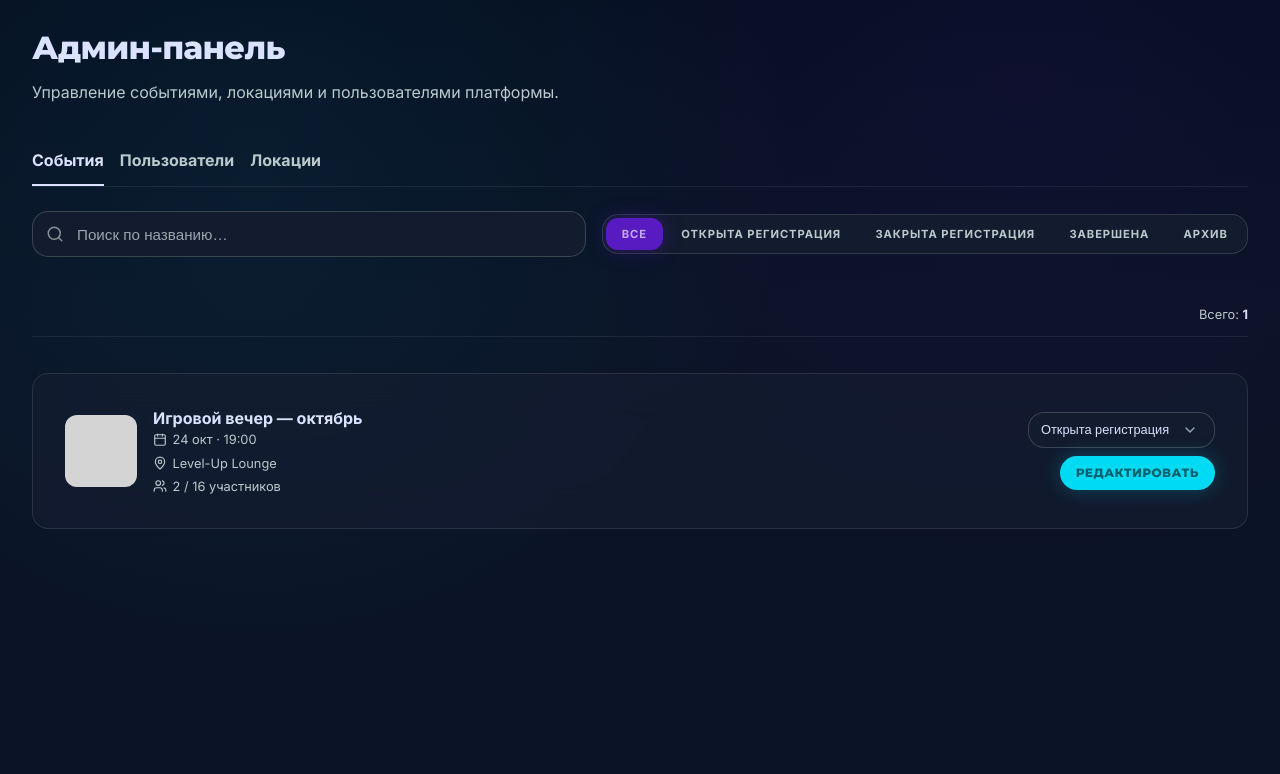
Scenario: AdminPage › shows role select for superadmin on users tab
This screenshot has width=1280, height=774.
Click the tab "Пользователи": (177, 161) [120,136,234,186]
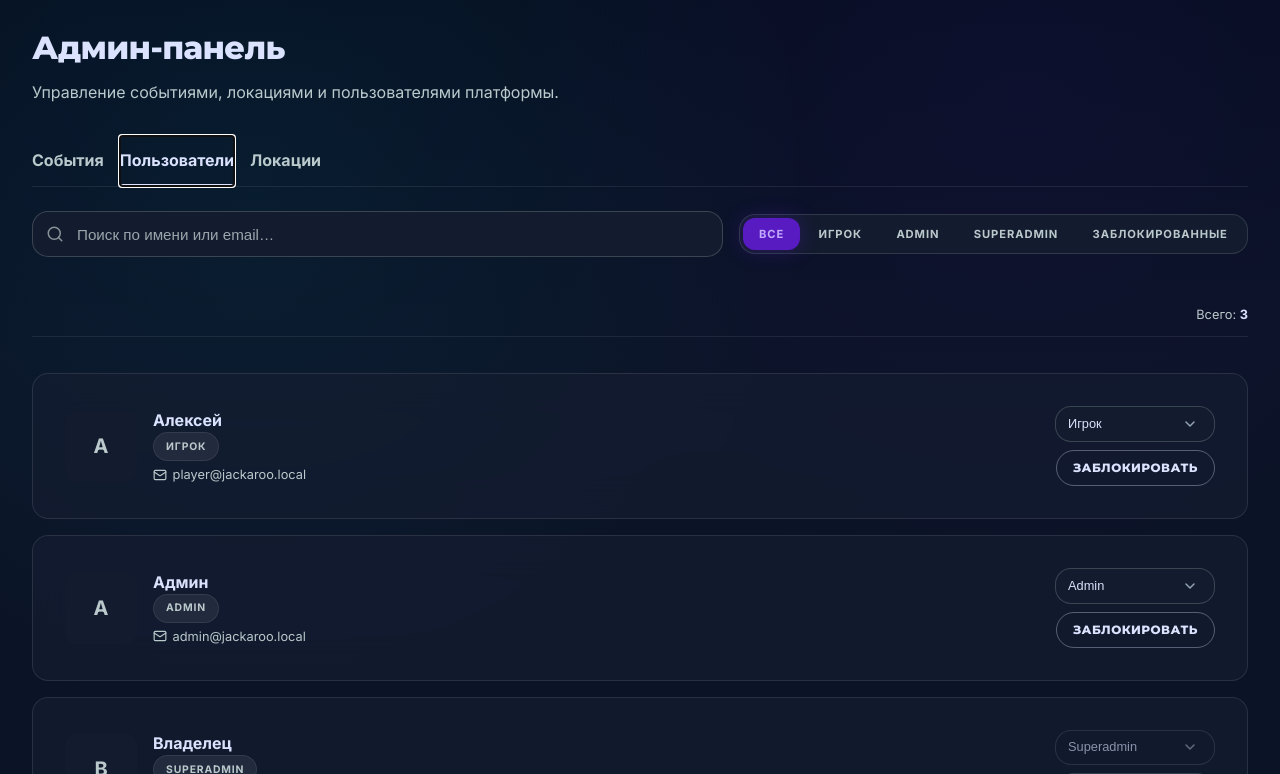
expect the button "Алексей" is shown: met, box [153,408,222,432]
expect the number of dropdowns named "Изменить роль пользователя" is 2: met, box [1055,406,1215,442]; [1055,568,1215,604]
expect the dropdown named "Роль superadmin" is disabled: met, box [1055,730,1215,765]
